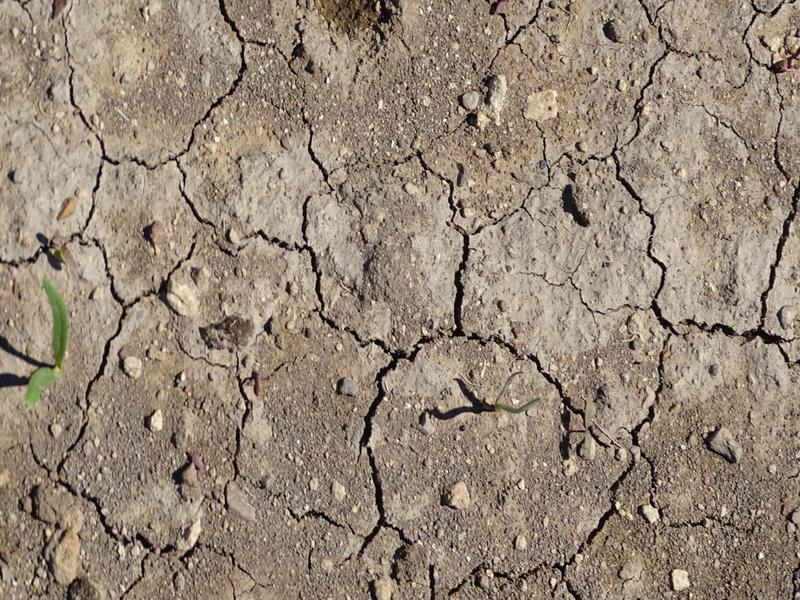Espinaca: (25, 277, 73, 407)
